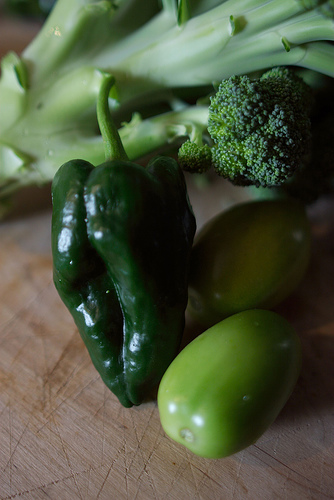broccoli: (212, 62, 332, 196)
